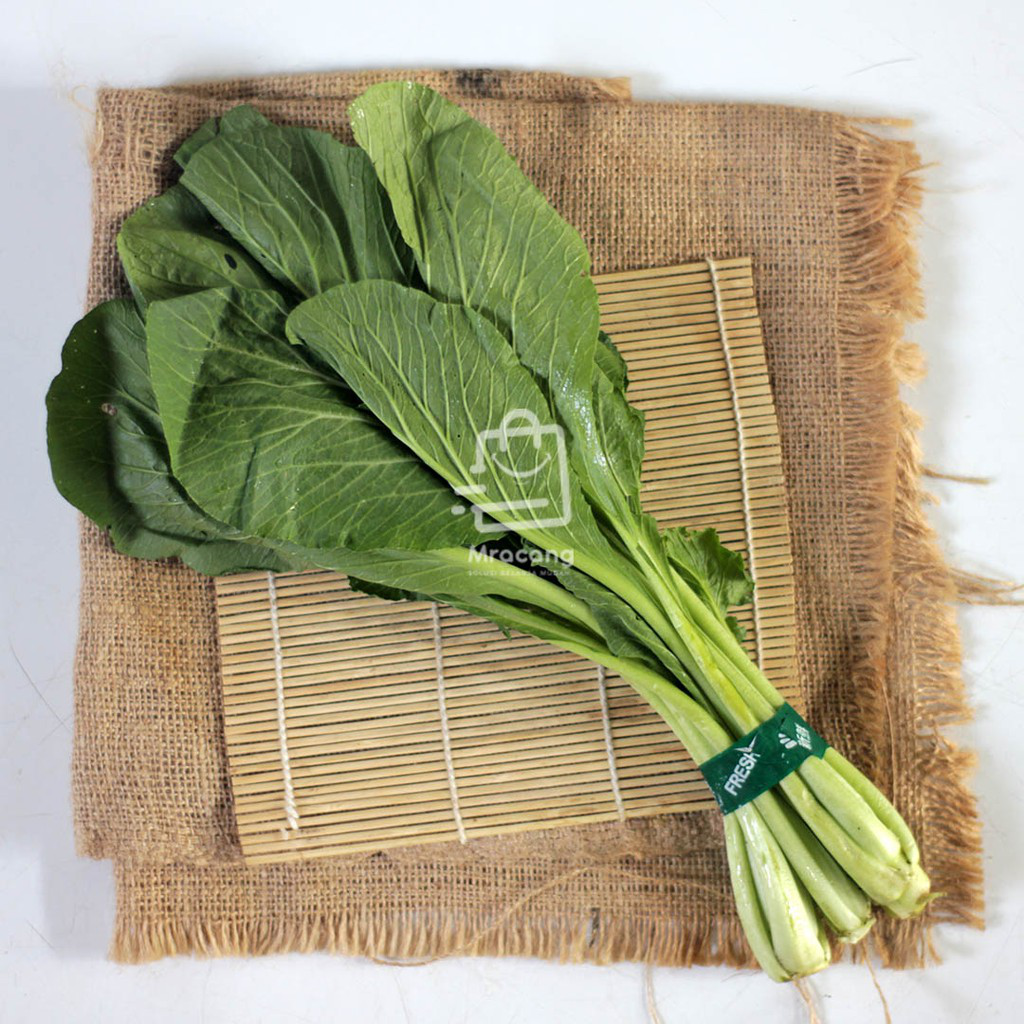Sawi: (58, 81, 974, 959)
